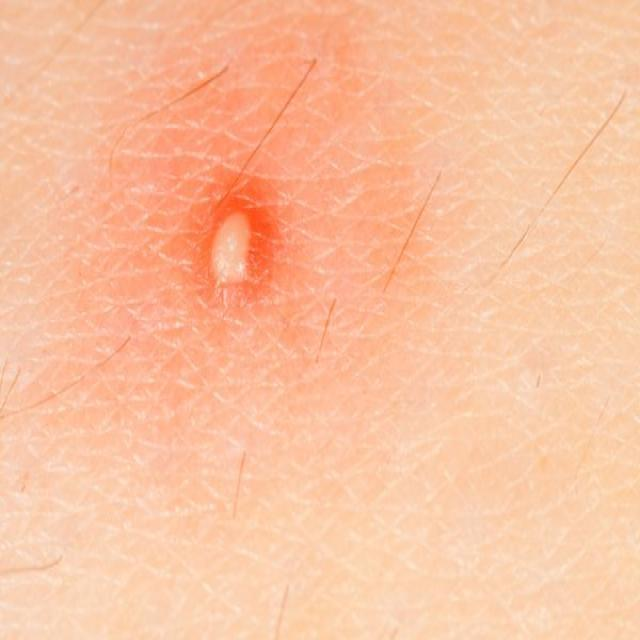pustule: (178, 169, 290, 310)
